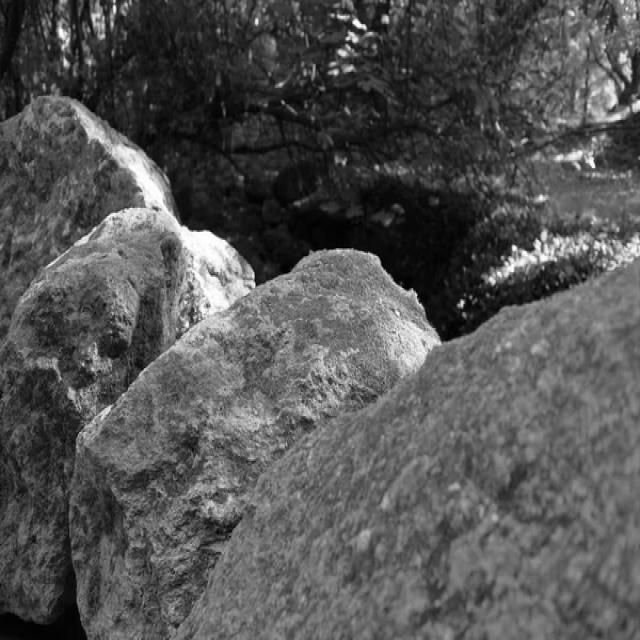Stone: (178, 261, 640, 640), (69, 253, 439, 640), (0, 208, 254, 625), (1, 96, 177, 343)
